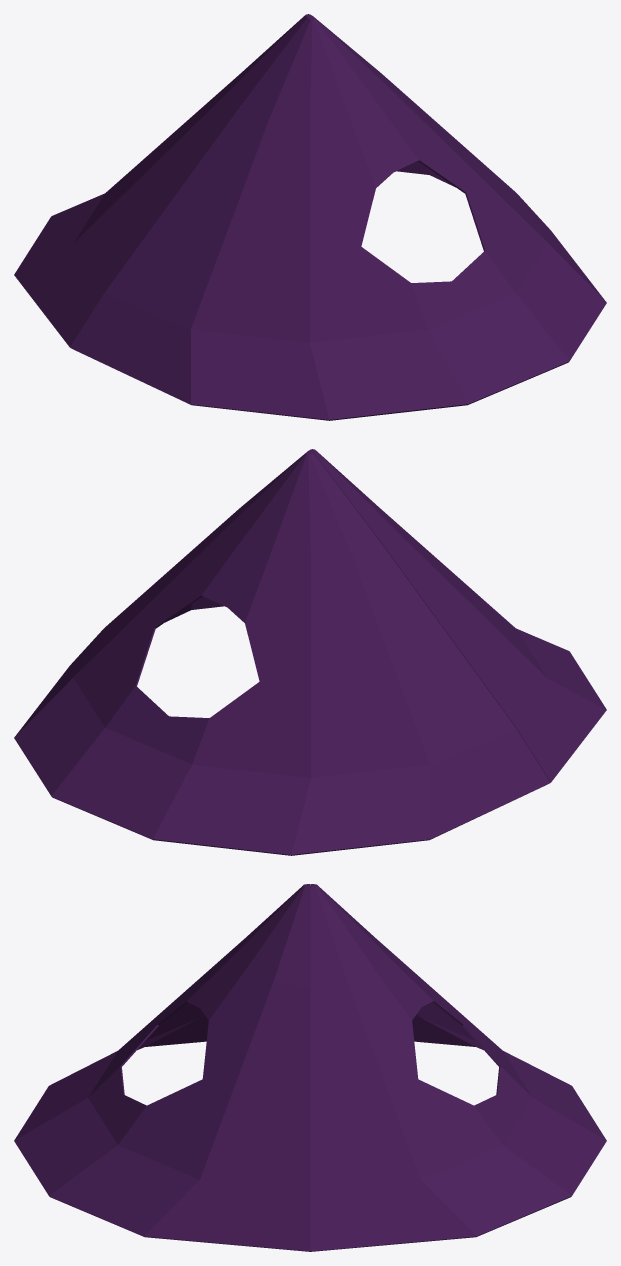
File: Conical Hat.fbx
3 views of the same model, one above another, from view 1: azimuth 30°, elevation 25°; view 2: azimuth 150°, elevation 25°; view 3: azimuth 270°, elevation 25° (orthographic). The views are drawn at different scales.
Parts seen in each view (by area): view 1: Conical Hat; view 2: Conical Hat; view 3: Conical Hat.
Boxes of the visible parts, x1,y1,x2,y2 form: Conical Hat: (14, 14, 606, 420); Conical Hat: (14, 449, 606, 855); Conical Hat: (14, 884, 606, 1251).
Bounding box in the file's own units: 121 × 65.67 × 137.
